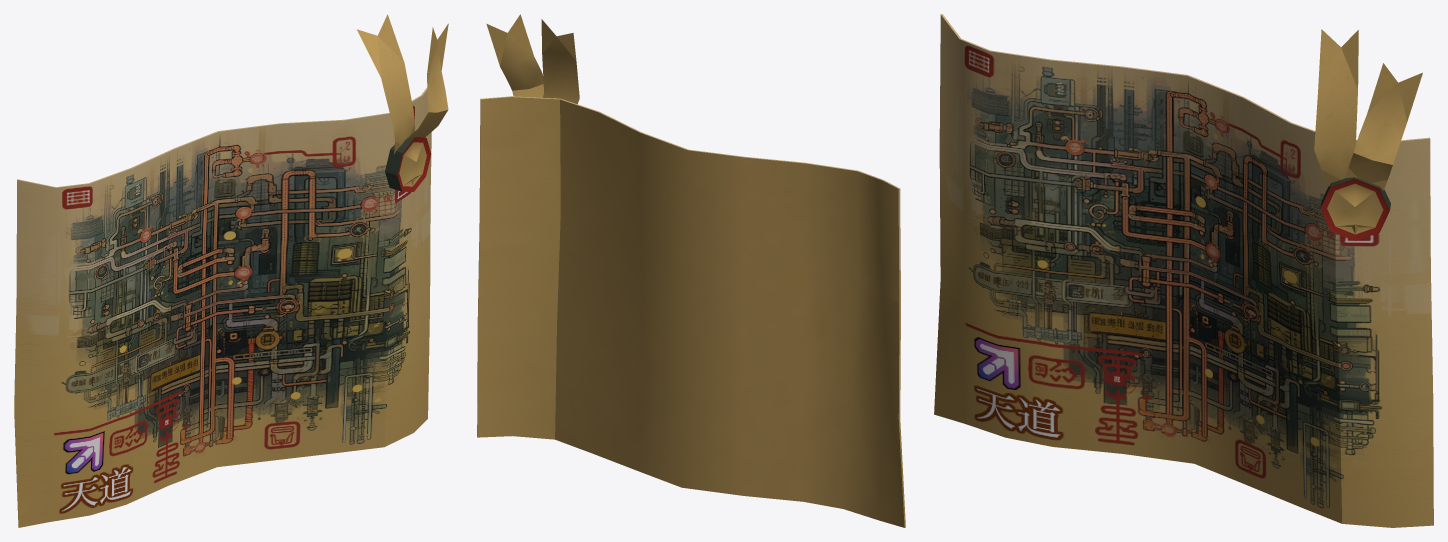
Rendered from MAP_GLB.glb.
3 renders of one model, left to right at view 1: azimuth 30°, elevation 25°; view 2: azimuth 150°, elevation 25°; view 3: azimuth 330°, elevation 25°, orthographic. The views are drawn at different scales.
Parts seen in each view (by area): view 1: towntitledeed; view 2: towntitledeed; view 3: towntitledeed.
Boxes of the visible parts, x1,y1,x2,y2 form: towntitledeed: [14, 14, 448, 527]; towntitledeed: [477, 14, 905, 527]; towntitledeed: [934, 14, 1433, 527].
Bounding box in the file's own units: 0.5368 × 0.5127 × 0.0816.
Materials: 1 (1 with a texture image).
